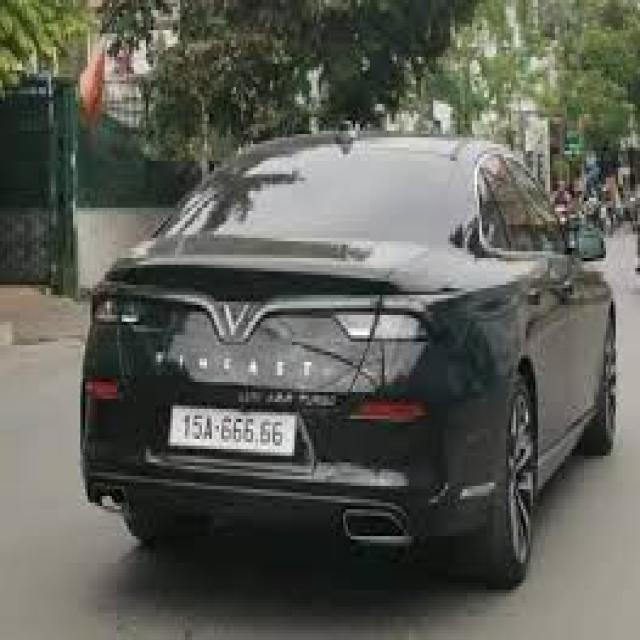bien_so: (161, 392, 307, 472)
